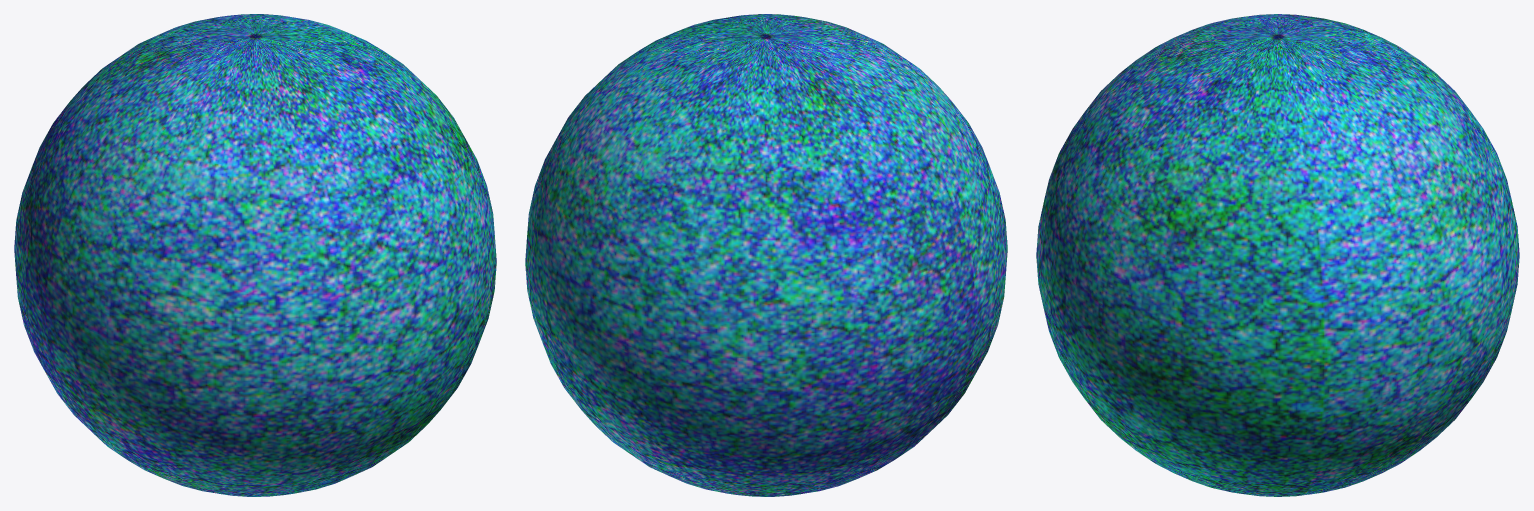
Rendered from Satillite.fbx.
3 views of the same model, side by side, from view 1: azimuth 30°, elevation 25°; view 2: azimuth 150°, elevation 25°; view 3: azimuth 270°, elevation 25° (orthographic).
Visible parts, largest first — view 1: shield; view 2: shield; view 3: shield.
Part boxes in pixels (x1,y1,x2,y2): shield: (14, 14, 496, 496); shield: (525, 14, 1007, 496); shield: (1036, 14, 1519, 496).
Bounding box in the file's own units: 308 × 308 × 308.
